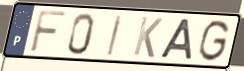0: (66, 11, 97, 57)
A: (158, 18, 194, 62)
F: (28, 8, 69, 55)
G: (196, 18, 231, 64)
I: (105, 13, 125, 58)
K: (131, 15, 165, 60)
